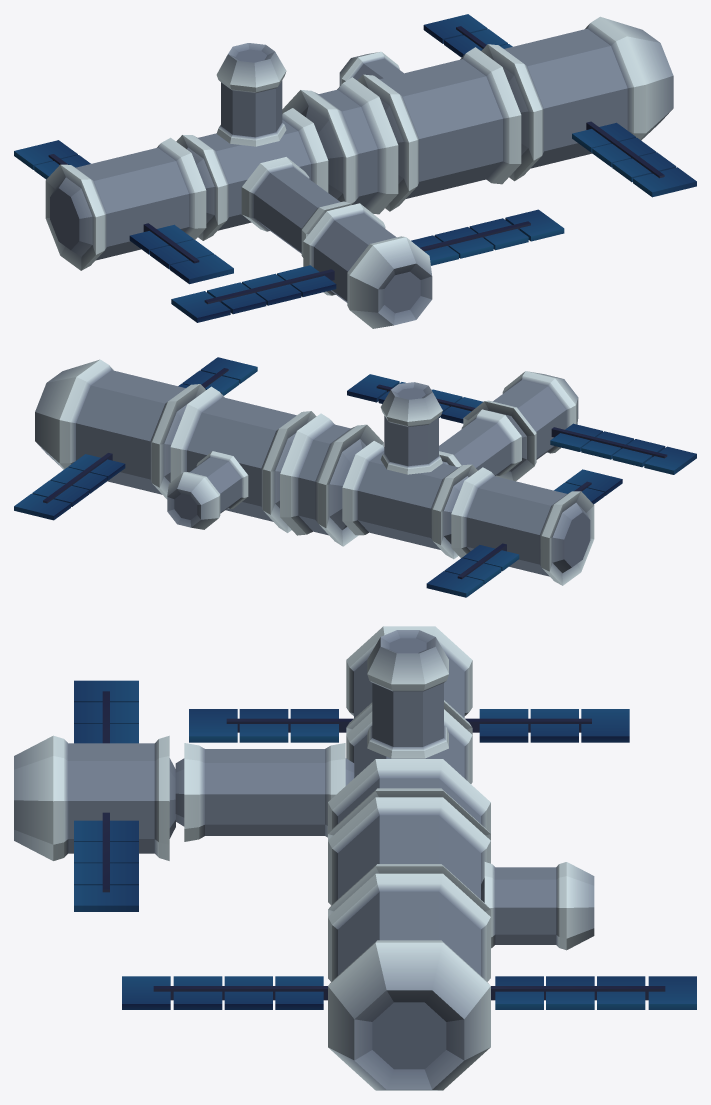
File: spacialStation1.fbx
3 views of the same model, one above another, from view 1: azimuth 30°, elevation 25°; view 2: azimuth 150°, elevation 25°; view 3: azimuth 270°, elevation 25° (orthographic). The views are drawn at different scales.
Parts seen in each view (by area): view 1: Cylinder.001, Cylinder.009, Cylinder.007, Cylinder.013, Cylinder.008, Cylinder.006, Cylinder.014, Cylinder.012, Cylinder.011, Cube.035, Cube.024, Cube.046 (+19 smaller); view 2: Cylinder.001, Cylinder.007, Cylinder.009, Cylinder.006, Cylinder.008, Cylinder.013, Cylinder.014, Cylinder.011, Cylinder.012, Cube.040, Cube.033, Cube.046 (+16 smaller); view 3: Cylinder.001, Cylinder.013, Cylinder.012, Cylinder.009, Cylinder.014, Cylinder.011, Cylinder.008, Cylinder.007, Cylinder.006, Cube.047, Cube.035, Cube.040 (+22 smaller).
Boxes of the visible parts, left/top/right/bottom form: Cylinder.001: left=481, top=16, right=673, bottom=181; Cylinder.009: left=357, top=47, right=521, bottom=211; Cylinder.007: left=45, top=137, right=206, bottom=270; Cylinder.013: left=303, top=203, right=432, bottom=328; Cylinder.008: left=282, top=77, right=398, bottom=214; Cylinder.006: left=176, top=108, right=328, bottom=240; Cylinder.014: left=216, top=43, right=286, bottom=146; Cylinder.012: left=241, top=157, right=351, bottom=257; Cylinder.011: left=339, top=51, right=403, bottom=85; Cube.035: left=170, top=254, right=233, bottom=284; Cube.024: left=633, top=167, right=696, bottom=197; Cube.046: left=171, top=291, right=230, bottom=322; Cylinder.001: left=35, top=359, right=205, bottom=499; Cylinder.007: left=451, top=467, right=594, bottom=585; Cylinder.009: left=170, top=386, right=316, bottom=532; Cylinder.006: left=342, top=441, right=477, bottom=559; Cylinder.008: left=280, top=413, right=383, bottom=546; Cylinder.013: left=463, top=371, right=578, bottom=481; Cylinder.014: left=380, top=382, right=442, bottom=474; Cylinder.011: left=167, top=451, right=248, bottom=529; Cylinder.012: left=439, top=409, right=521, bottom=475; Cube.040: left=426, top=571, right=483, bottom=597; Cube.033: left=14, top=493, right=70, bottom=520; Cube.046: left=644, top=446, right=696, bottom=474; Cylinder.001: left=328, top=873, right=490, bottom=1090; Cylinder.013: left=14, top=735, right=175, bottom=860; Cylinder.012: left=175, top=743, right=354, bottom=841; Cylinder.009: left=328, top=797, right=490, bottom=916; Cylinder.014: left=367, top=630, right=448, bottom=758; Cylinder.011: left=481, top=862, right=594, bottom=950; Cylinder.008: left=328, top=759, right=490, bottom=840; Cylinder.007: left=346, top=626, right=472, bottom=734; Cylinder.006: left=346, top=709, right=472, bottom=783; Cube.047: left=74, top=885, right=138, bottom=911; Cube.035: left=189, top=709, right=237, bottom=742; Cube.040: left=581, top=709, right=629, bottom=742.
Bounding box in the file's own units: 495 × 145 × 396.
